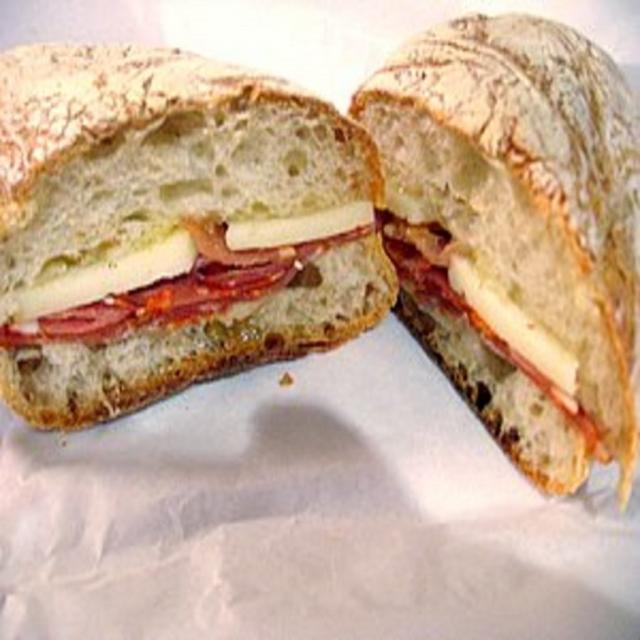Sandwich: (0, 34, 397, 426), (343, 6, 637, 504)
